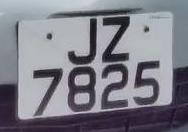2: (96, 61, 134, 114)
5: (127, 57, 167, 109)
7: (30, 62, 66, 118)
8: (64, 62, 100, 115)
J: (61, 14, 102, 67)
Z: (97, 12, 134, 66)
